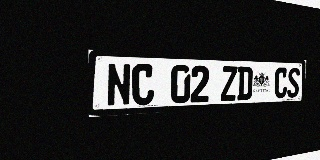0: (170, 65, 191, 104)
2: (190, 65, 209, 103)
C: (132, 64, 154, 106), (274, 67, 288, 99)
D: (237, 66, 253, 100)
N: (107, 63, 131, 107)
S: (287, 68, 300, 98)
Z: (221, 66, 237, 101)
